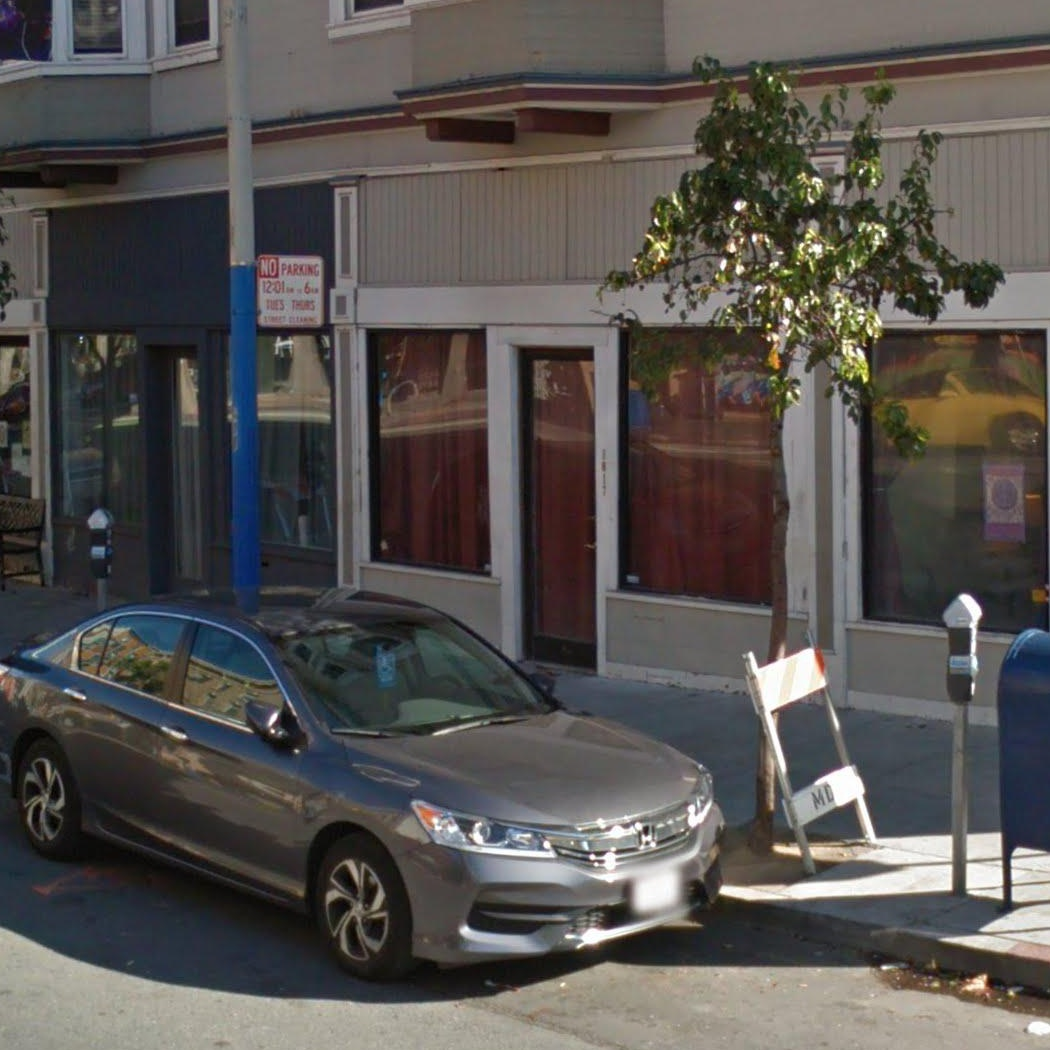No Parking: (255, 253, 325, 329)
